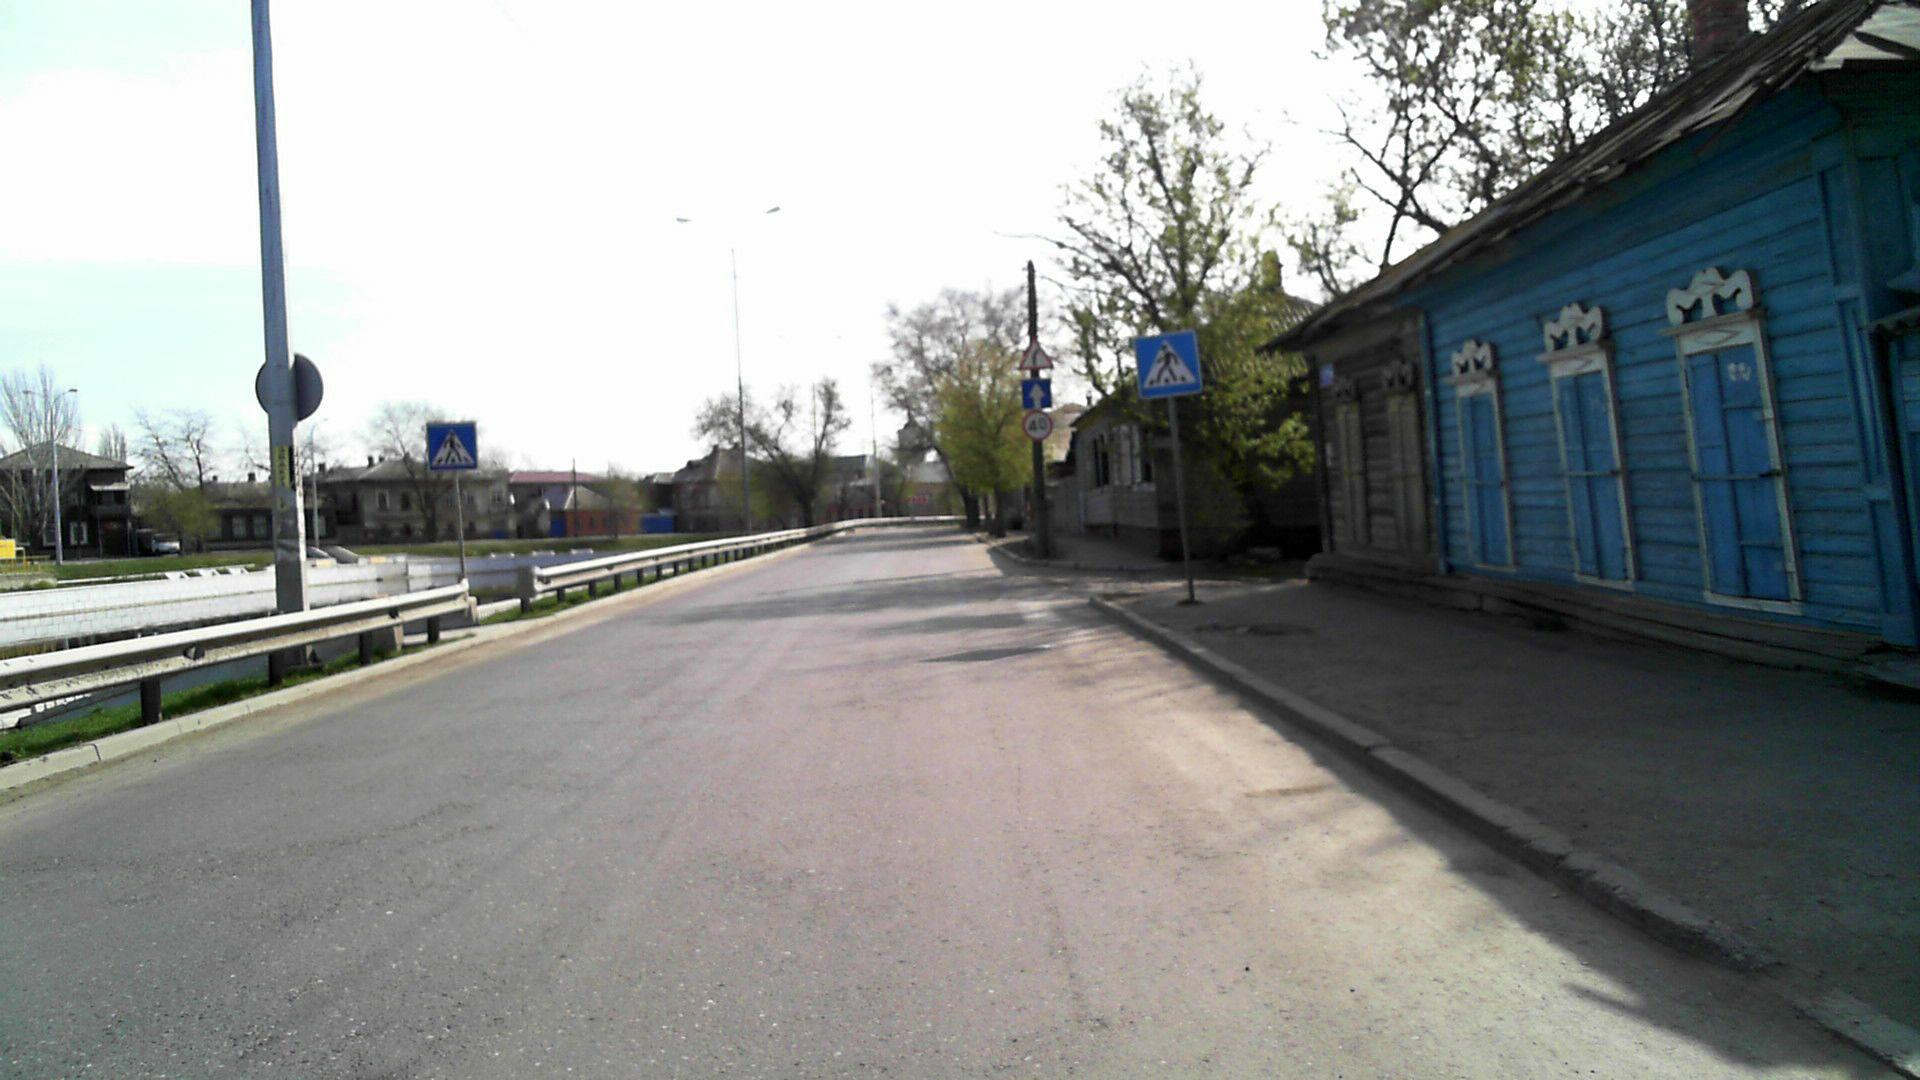1_11_1: (1018, 339, 1054, 369)
3_24: (1021, 411, 1052, 440)
5_19_1: (1134, 328, 1207, 396)
5_19_2: (423, 418, 480, 472)
5_5: (1019, 377, 1052, 410)
